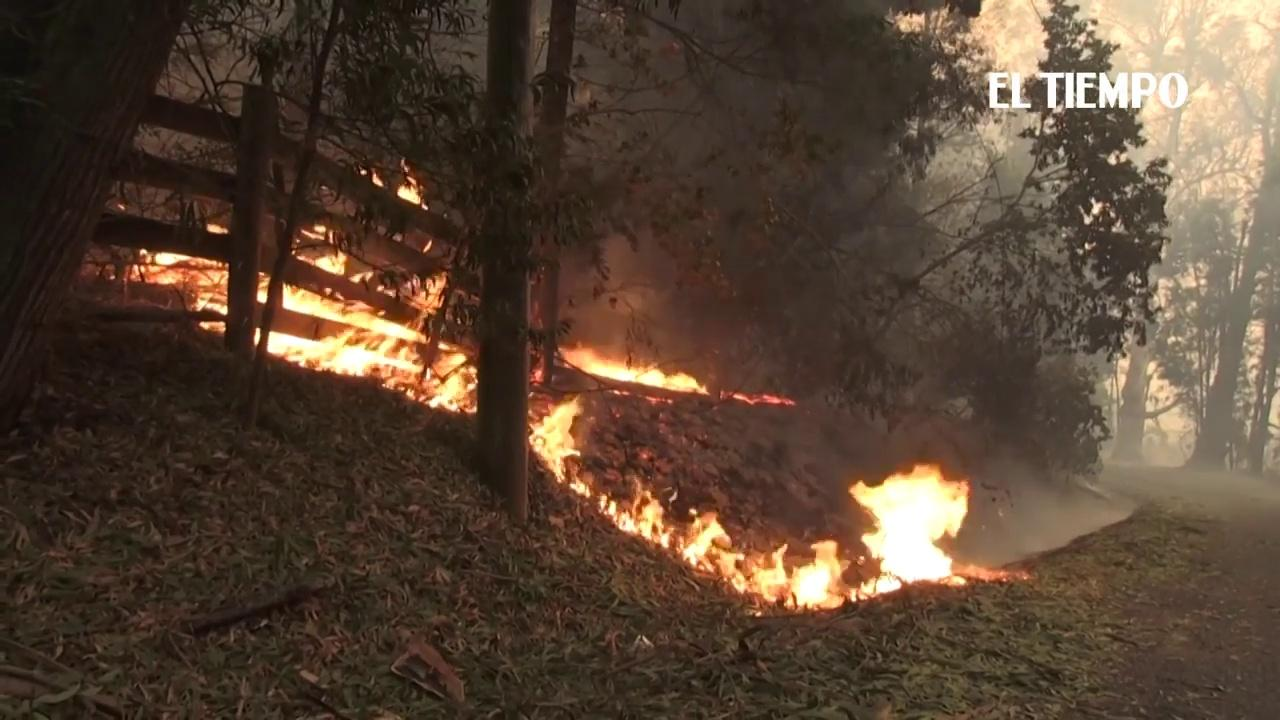Fire: (688, 459, 982, 613), (253, 218, 479, 415), (532, 403, 677, 548), (130, 247, 229, 332), (562, 345, 707, 393), (395, 153, 433, 210), (726, 384, 799, 411)
